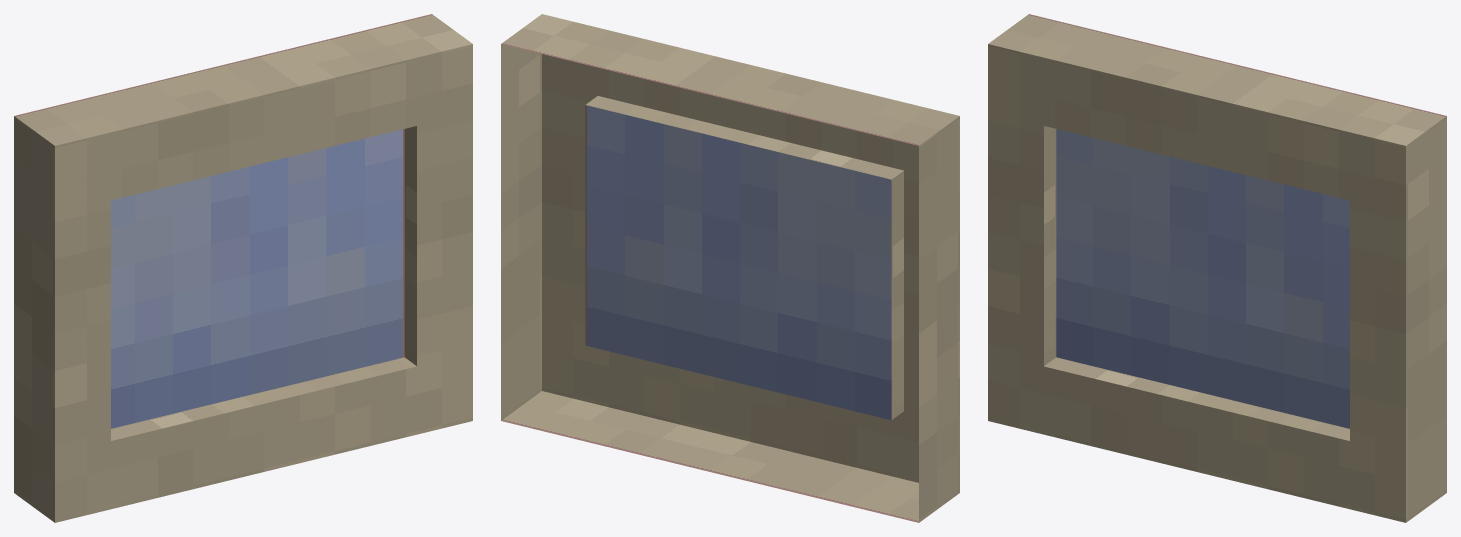
File: Window.fbx
3 renders of one model, left to right at view 1: azimuth 30°, elevation 25°; view 2: azimuth 150°, elevation 25°; view 3: azimuth 330°, elevation 25°, orthographic.
Visible parts, largest first — view 1: window; view 2: window; view 3: window.
Boxes of the visible parts, left/top/right/bottom form: window: left=14, top=14, right=472, bottom=522; window: left=501, top=14, right=959, bottom=522; window: left=988, top=14, right=1446, bottom=522.
Size of the model in its own units: 28.89 by 24.9 by 4.91.
